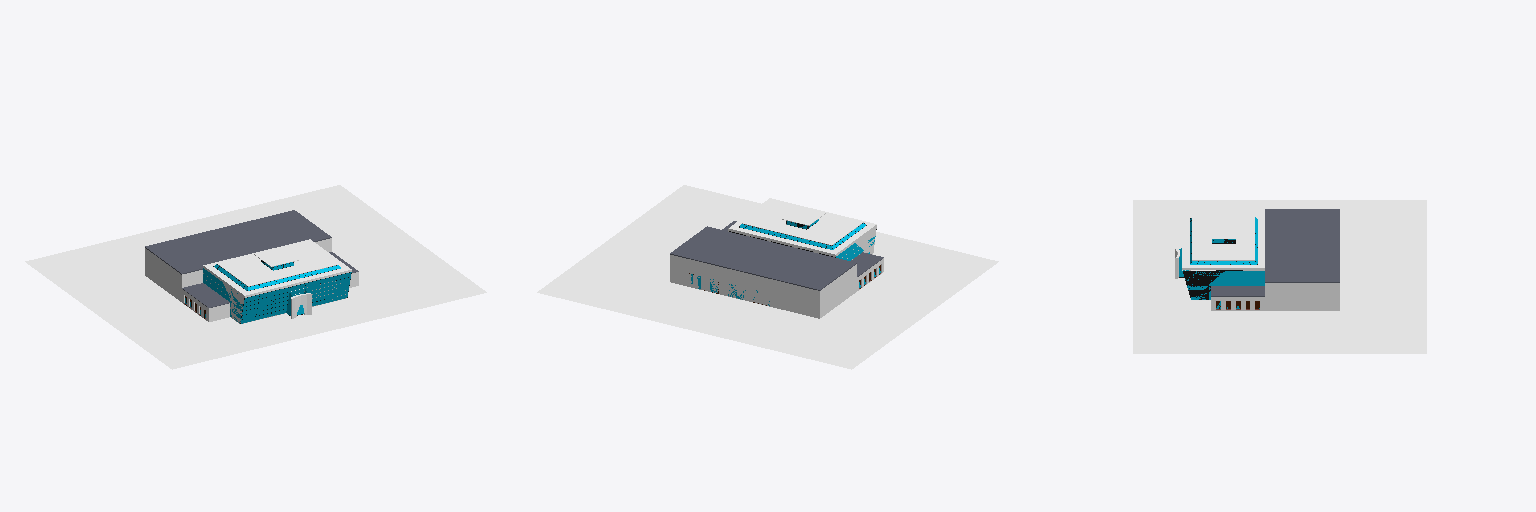
The picture shows the model from 3 angles: view 1: azimuth 30°, elevation 25°; view 2: azimuth 150°, elevation 25°; view 3: azimuth 270°, elevation 25°; orthographic projection.
Visible parts, largest first — view 1: Mesh167 Model; view 2: Mesh167 Model; view 3: Mesh167 Model.
Part boxes in pixels (left/top/right/bottom): Mesh167 Model: left=25, top=185, right=486, bottom=369; Mesh167 Model: left=537, top=185, right=998, bottom=369; Mesh167 Model: left=1133, top=200, right=1426, bottom=353.
Bounding box in the file's own units: 73.56 × 9.47 × 59.54.
16 materials, 2 textured.